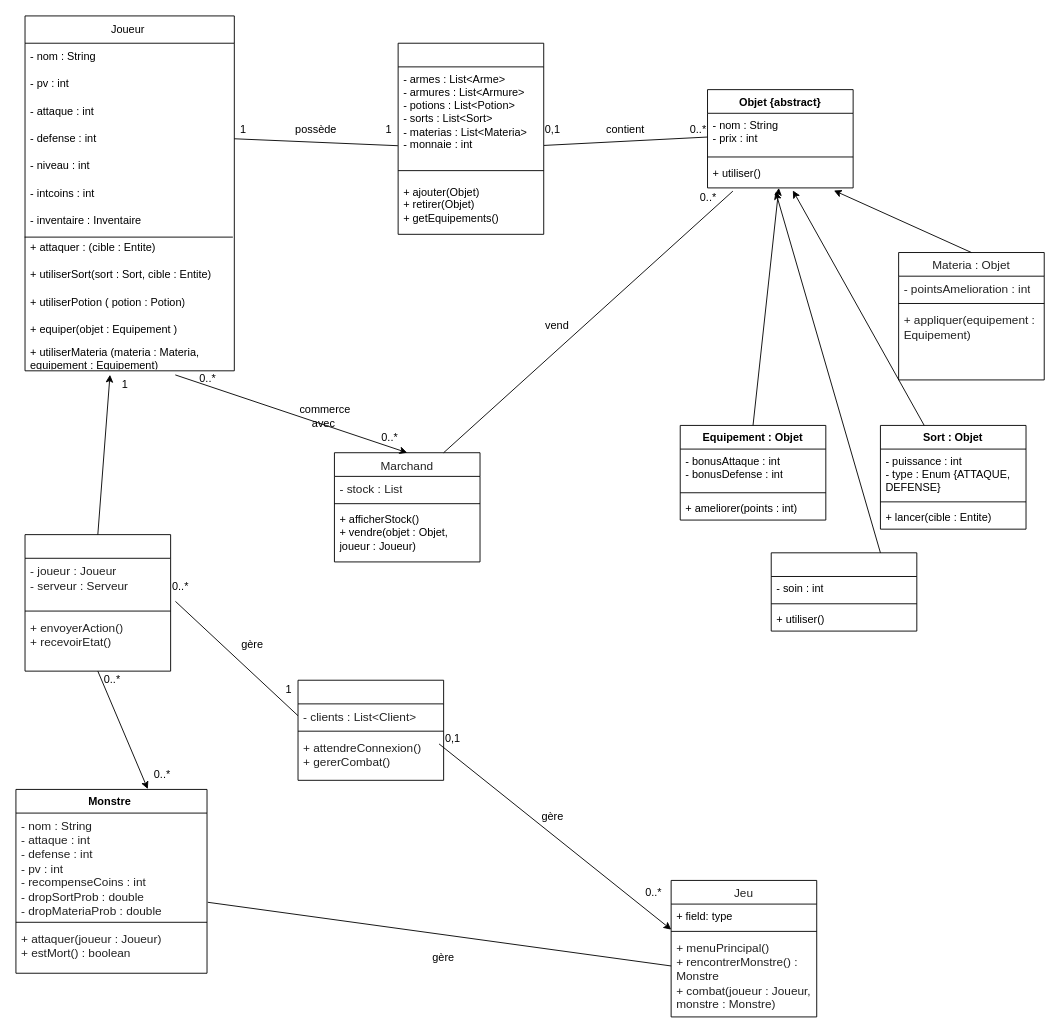
This 1060x1036 diagram has some shape labels left out. Each missing label, with the box of its shape:
Client: (24, 534, 171, 671)
Inventaire: (397, 42, 544, 234)
Potion : Objet: (770, 552, 917, 631)
Serveur: (297, 679, 444, 780)
